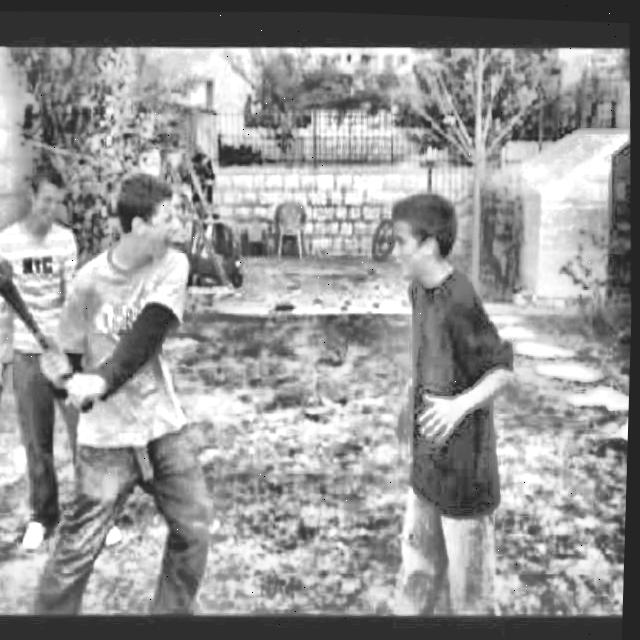robbery: (0, 165, 531, 621)
tongkat pemukul: (0, 232, 106, 424)
